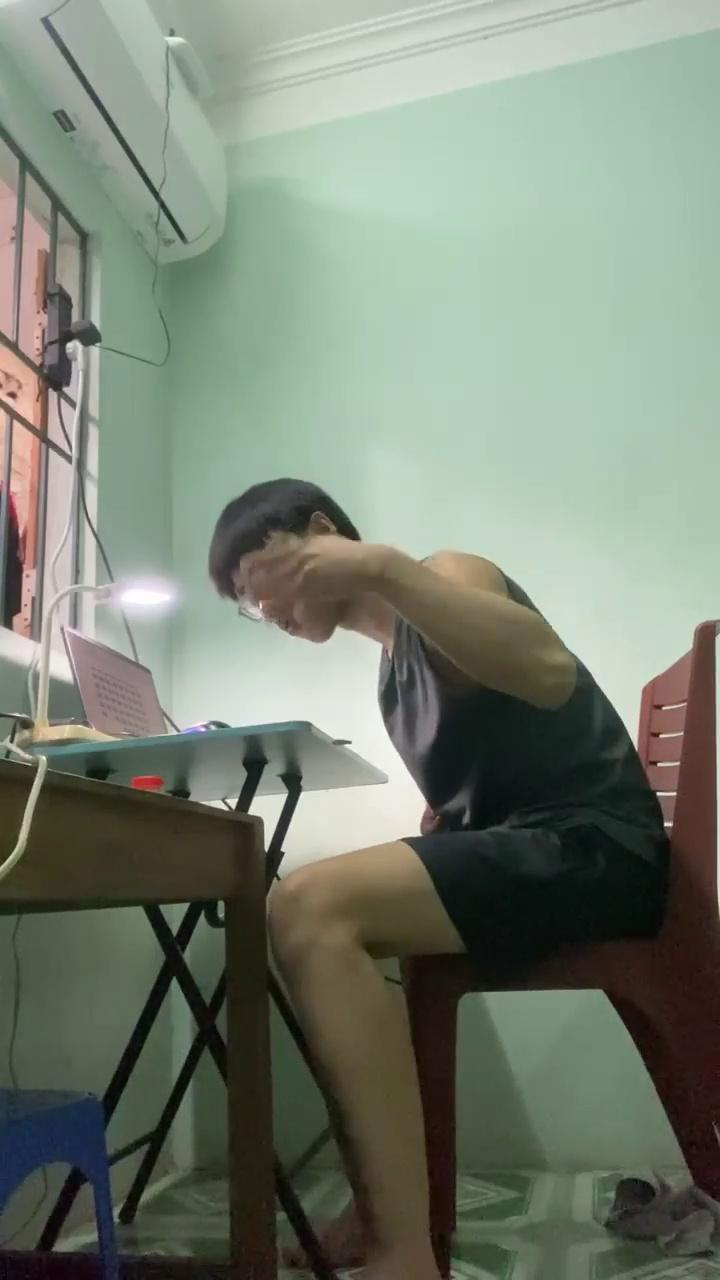BadPosture: (208, 477, 669, 1279)
